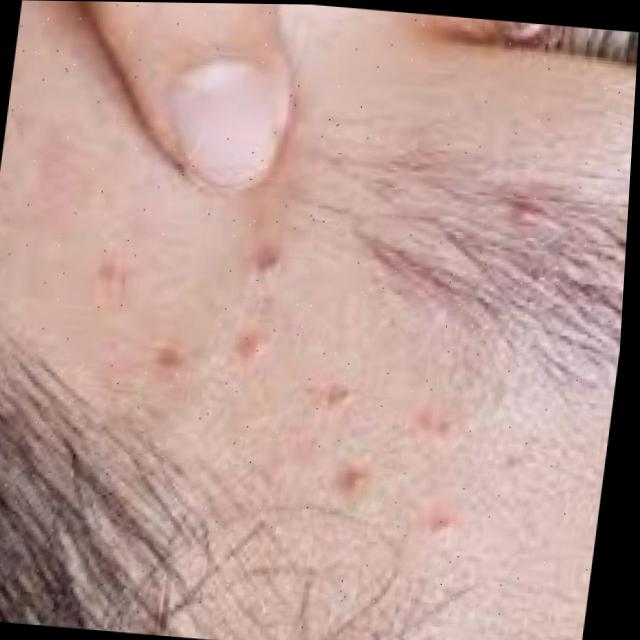Acne: (49, 232, 521, 565)
